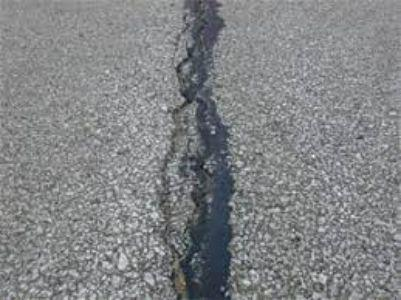crack: (155, 0, 218, 300)
